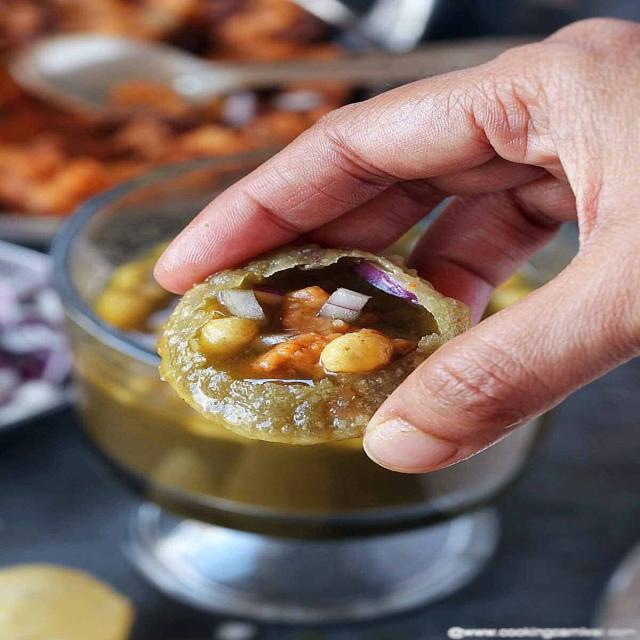paani_puri: (172, 254, 467, 443)
